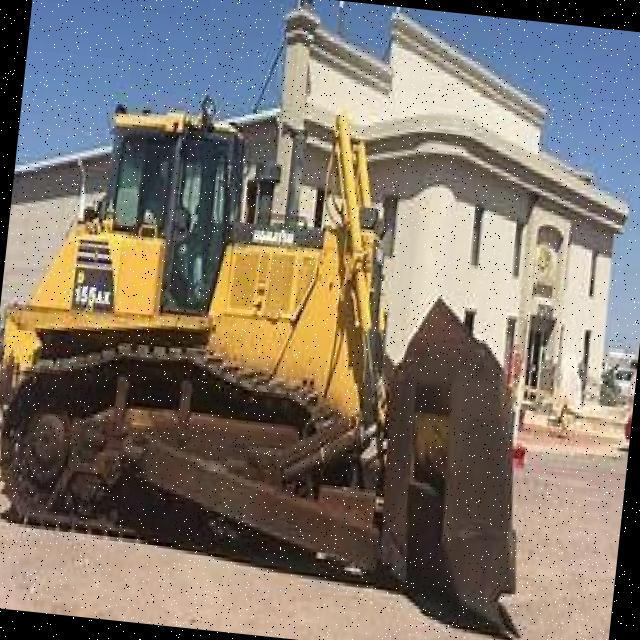Bulldozer: (0, 72, 583, 640)
